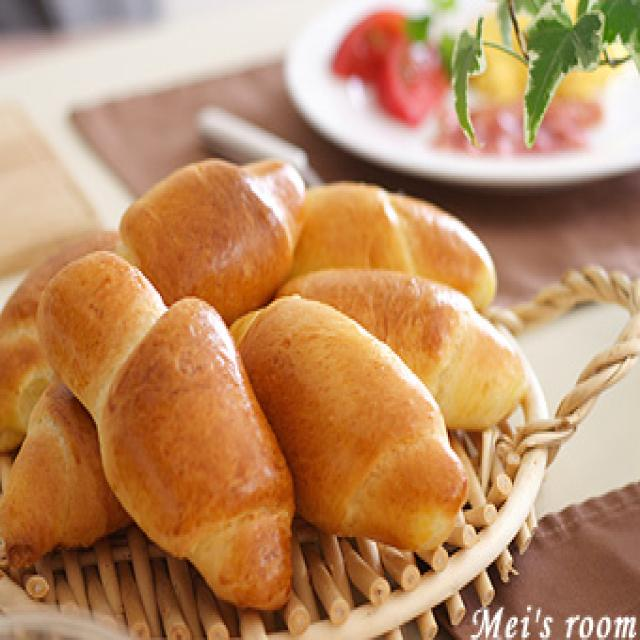面包点心: (0, 147, 523, 597)
